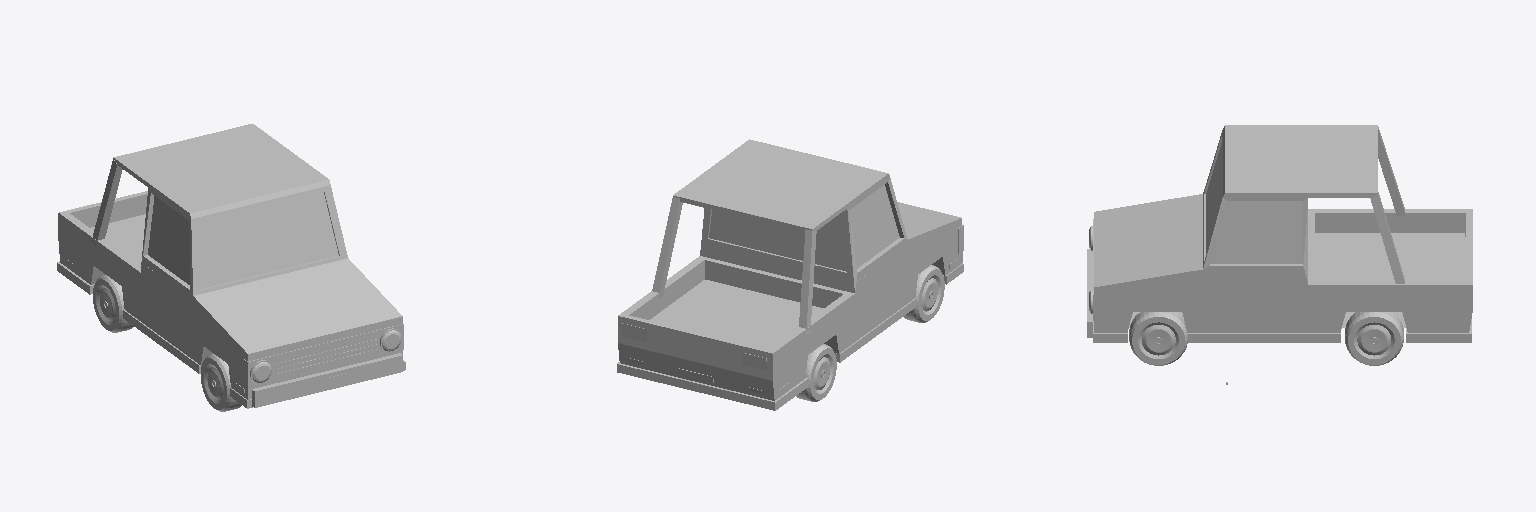
The model's file is car_lp.obj.
The picture shows the model from 3 angles: view 1: azimuth 30°, elevation 25°; view 2: azimuth 150°, elevation 25°; view 3: azimuth 270°, elevation 25°; orthographic projection.
Visible parts, largest first — view 1: Cube_1, Cube.3_1, Cube.4, Cylinder.1_1, Cylinder.7, Cube.004, Cube.1_1, Cube.2; view 2: Cube_1, Cube.004, Cube.1, Cylinder.1_1, Cylinder.7, Cube.1_1, Cube.2_1, Cube.2; view 3: Cube_1, Cube.004, Cylinder.5, Cylinder.6, Cube.2, Cube.2_1, Cube.1_1, Cube.1.
Part boxes in pixels (x1,y1,x2,y2): Cube_1: (58,124,402,399); Cube.3_1: (243,324,403,387); Cube.4: (252,353,402,407); Cylinder.1_1: (93,275,133,332); Cylinder.7: (201,354,241,411); Cube.004: (90,214,145,264); Cube.1_1: (91,159,122,246); Cube.2: (123,309,200,373); Cube_1: (618,139,961,400); Cube.004: (650,280,823,348); Cube.1: (617,362,808,410); Cylinder.1_1: (796,344,836,401); Cylinder.7: (903,265,944,322); Cube.1_1: (799,229,816,333); Cube.2_1: (652,197,682,297); Cube.2: (835,298,916,362); Cube_1: (1094,125,1472,332); Cube.004: (1315,233,1464,280); Cylinder.5: (1345,312,1403,365); Cylinder.6: (1129,312,1187,365); Cube.2: (1188,333,1340,342); Cube.2_1: (1370,192,1404,283); Cube.1_1: (1378,127,1404,216); Cube.1: (1406,319,1471,342).
Size of the model in its own units: 200 by 158 by 324.